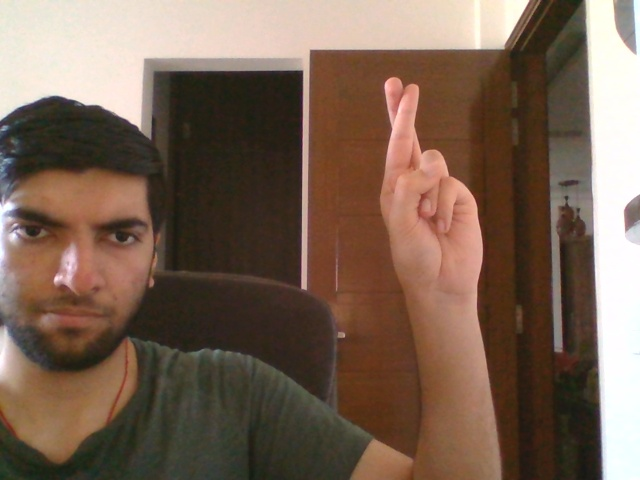LetterR: (378, 73, 485, 300)
